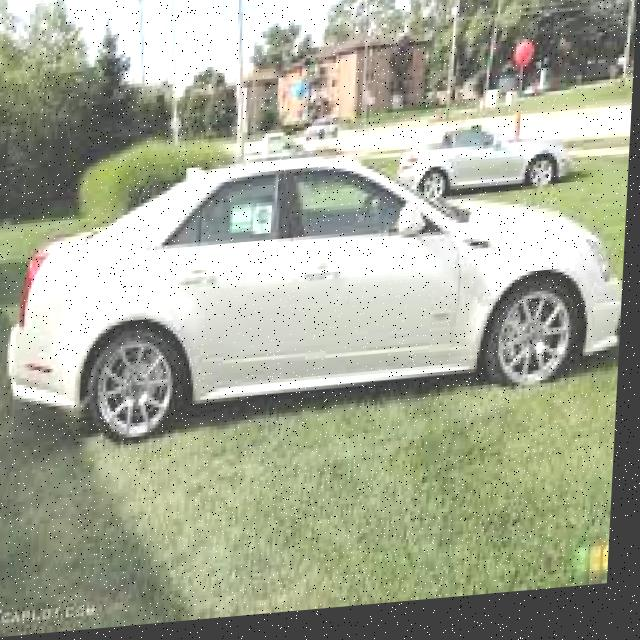car: (9, 103, 634, 476)
